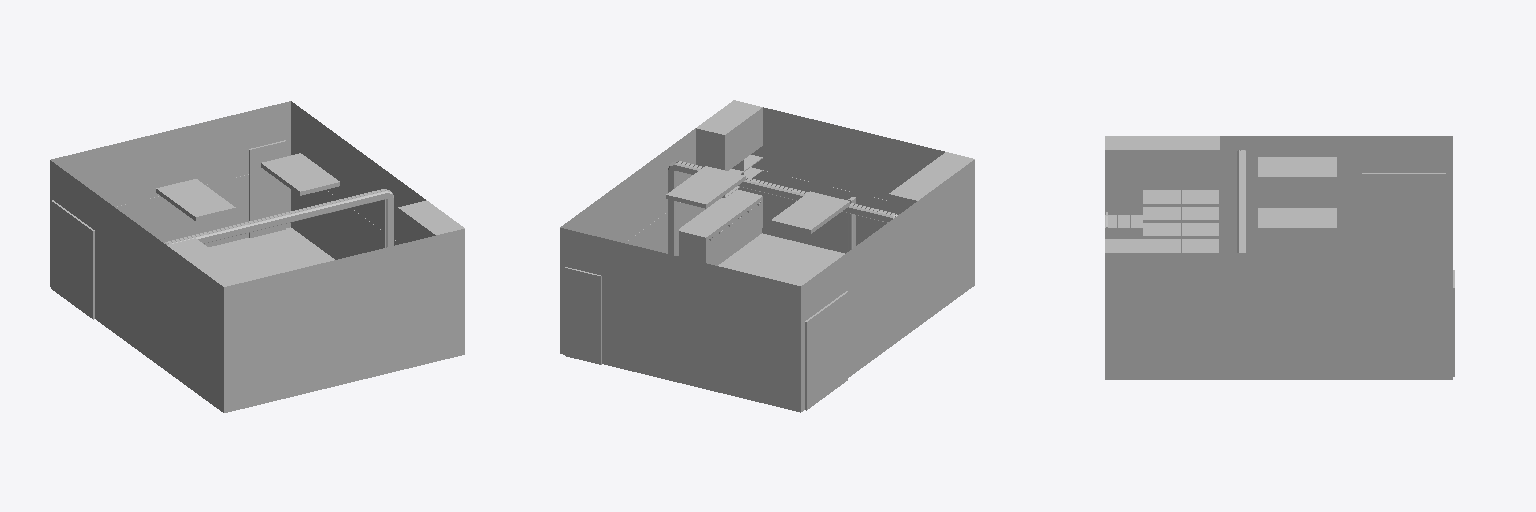
The model's file is CT Sim Room.obj.
3 views of the same model, side by side, from view 1: azimuth 30°, elevation 25°; view 2: azimuth 150°, elevation 25°; view 3: azimuth 270°, elevation 25° (orthographic).
Visible parts, largest first — view 1: Room, WLWA_020, FIJO_212_1, DWPR_005_1, MMRA_014, FIJO_212_2, DWPR_005_2, LIFX_038_2, FIJO_166_2, LIFX_038_1, FIJO_167; view 2: Room, WLWA_020, DWPR_005_1, FIJO_212_2, DWPR_005_2, FIJO_212_1, MMRA_014, pCube1, LIFX_038_2, LIFX_038_1, FIJO_167, FIJO_135_3; view 3: Room, WLWA_020, DWPR_005_1, FIJO_212_1, FIJO_212_2, FIJO_166_2, FIJO_166_1, FIJO_167, LIFX_038_1, LIFX_038_2, MMRA_014, FIJO_152_1.
Part boxes in pixels (x1,y1,x2,y2): Room: (50,101,464,411); WLWA_020: (50,174,464,412); FIJO_212_1: (167,238,252,324); DWPR_005_1: (51,200,94,319); MMRA_014: (164,189,393,247); FIJO_212_2: (398,200,464,272); DWPR_005_2: (249,140,285,237); LIFX_038_2: (156,179,235,220); FIJO_166_2: (167,284,185,377); LIFX_038_1: (261,153,339,195); FIJO_167: (205,312,252,404); Room: (560,107,974,411); WLWA_020: (560,170,974,412); DWPR_005_1: (805,291,847,410); FIJO_212_2: (696,100,762,170); DWPR_005_2: (565,267,601,364); FIJO_212_1: (889,152,974,217); MMRA_014: (668,161,897,255); pCube1: (679,189,762,237); LIFX_038_2: (771,191,849,233); LIFX_038_1: (666,166,745,208); FIJO_167: (956,200,974,292); FIJO_135_3: (679,232,705,262); Room: (1105,136,1452,379); WLWA_020: (1105,199,1452,379); DWPR_005_1: (1362,173,1445,252); FIJO_212_1: (1105,136,1219,187); FIJO_212_2: (1105,239,1180,290); FIJO_166_2: (1181,188,1219,252); FIJO_166_1: (1143,188,1180,238); FIJO_167: (1105,188,1142,238); LIFX_038_1: (1258,208,1336,231); LIFX_038_2: (1258,157,1336,180); MMRA_014: (1237,150,1245,252); FIJO_152_1: (1105,291,1142,315).
Bounding box in the file's own units: 60.5 × 30.5 × 75.5.